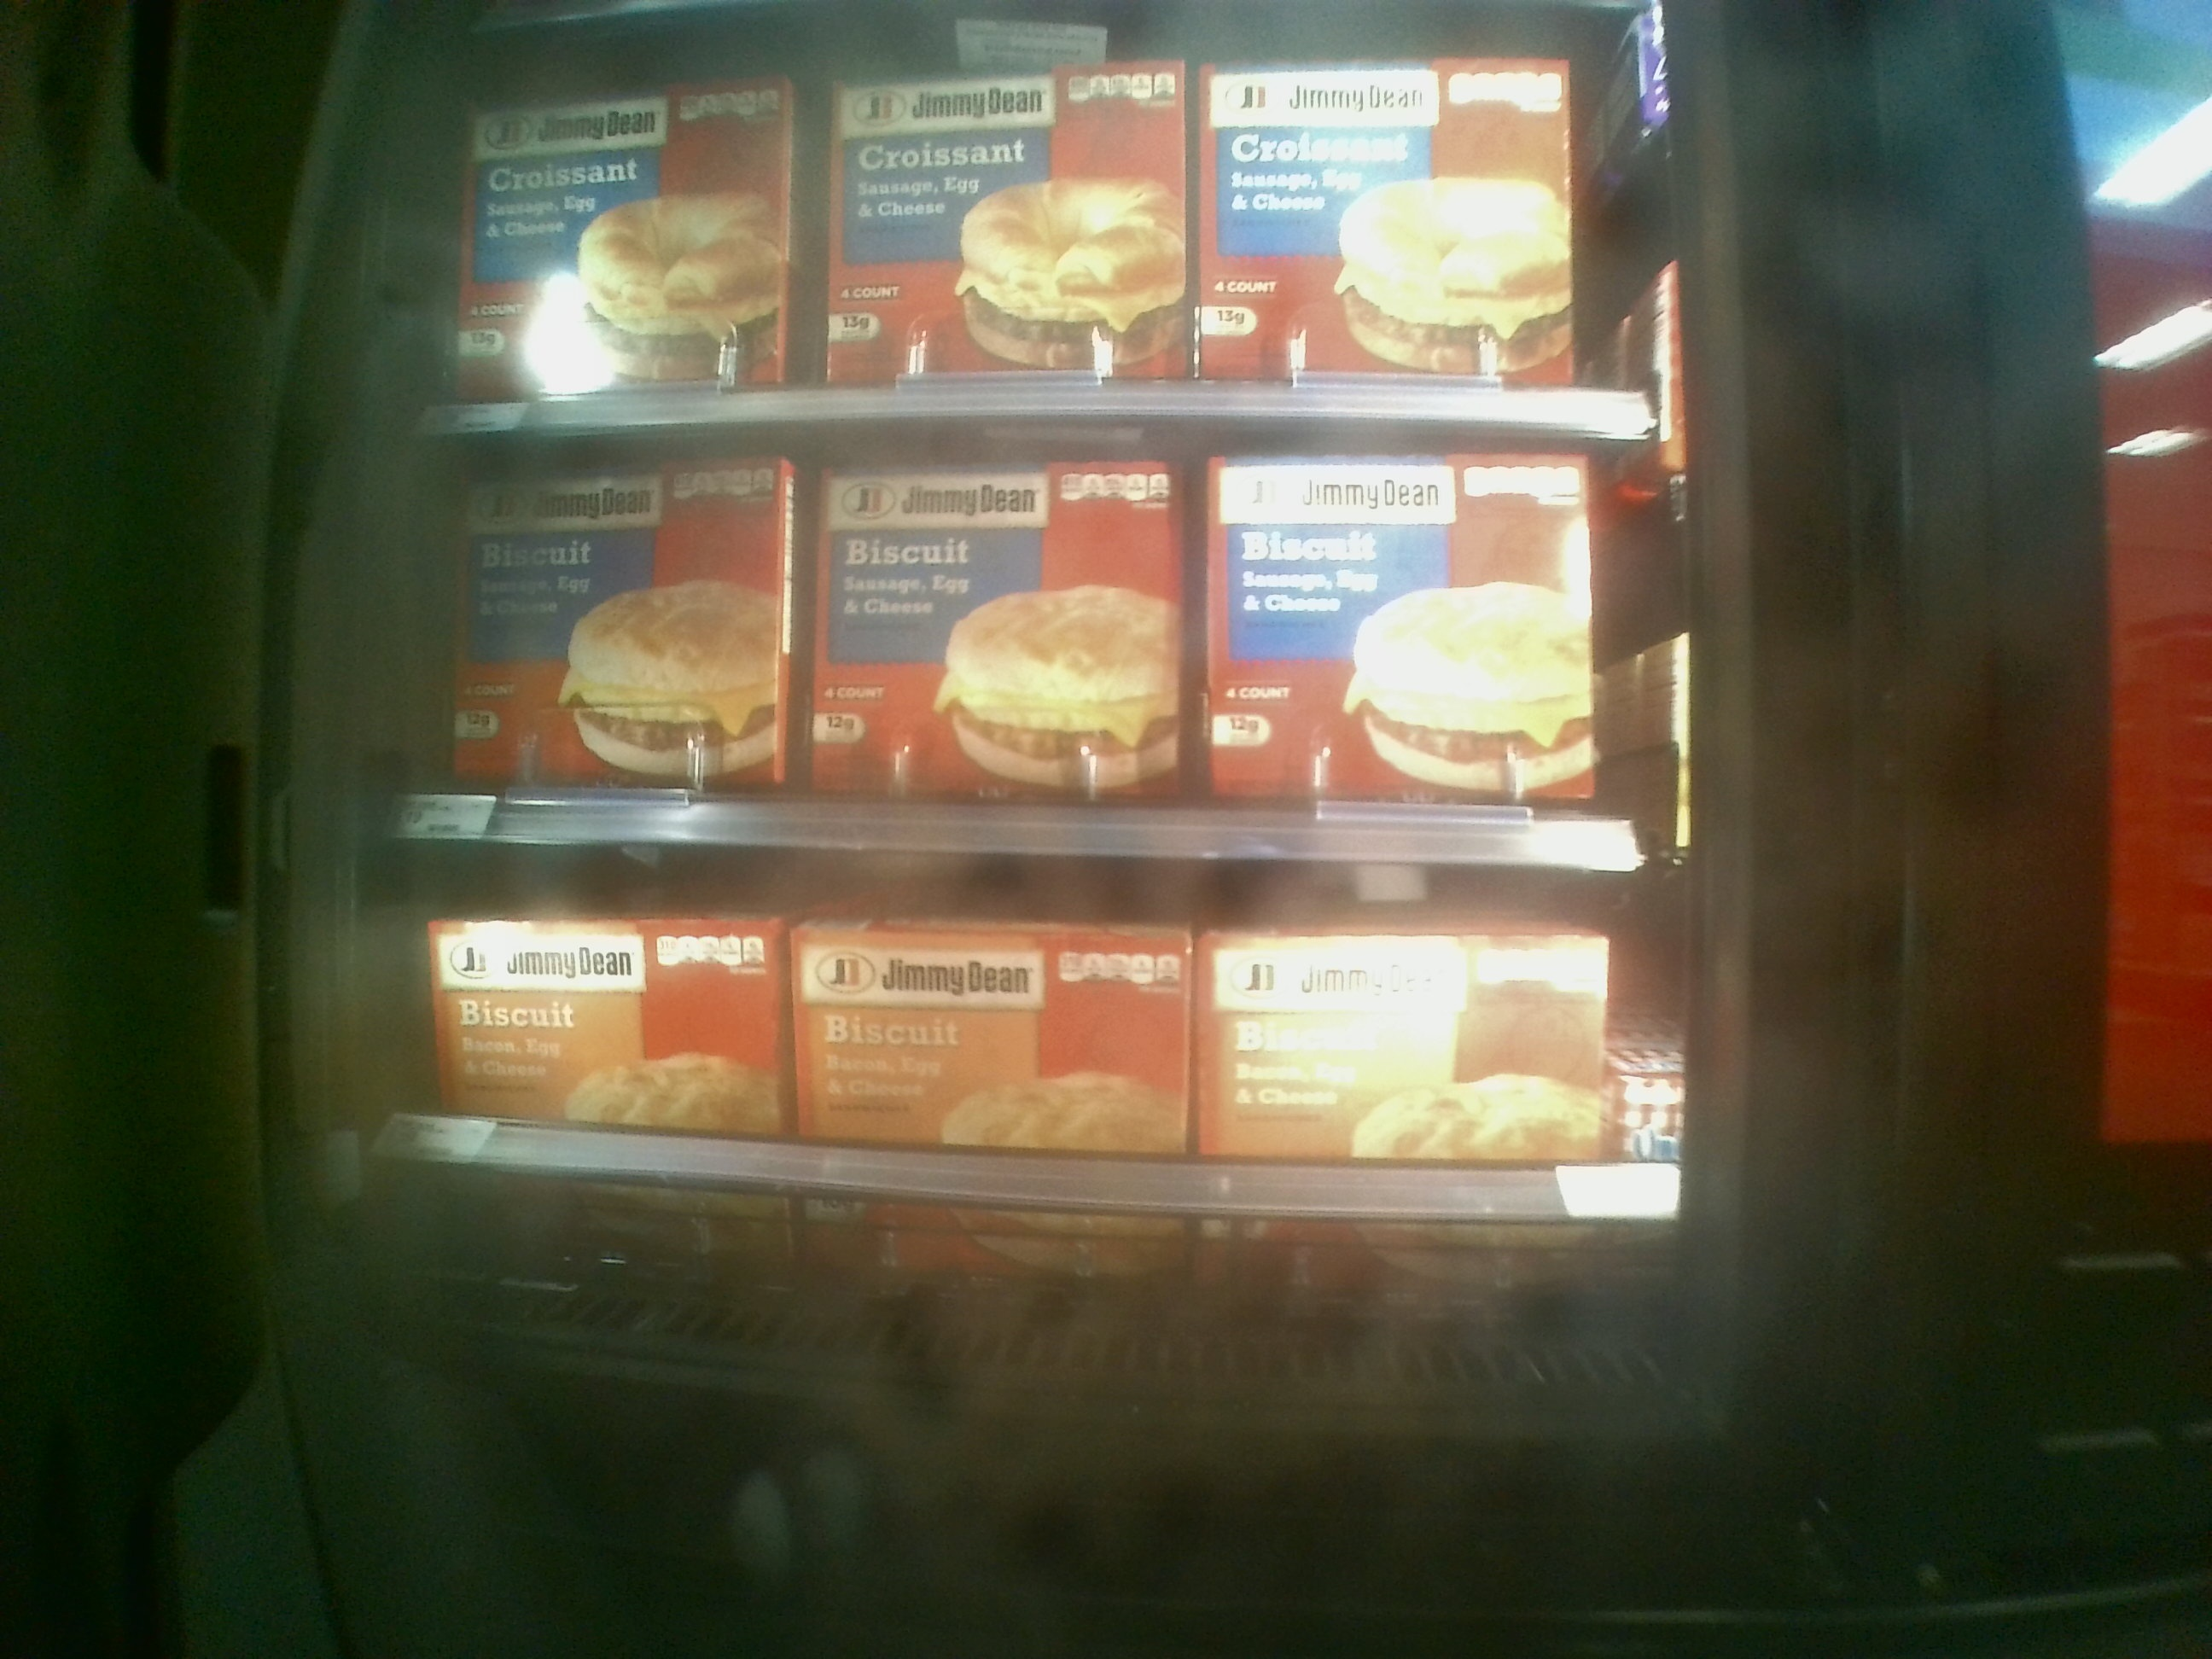shelf: (394, 847, 1689, 1328), (401, 416, 1679, 864)
